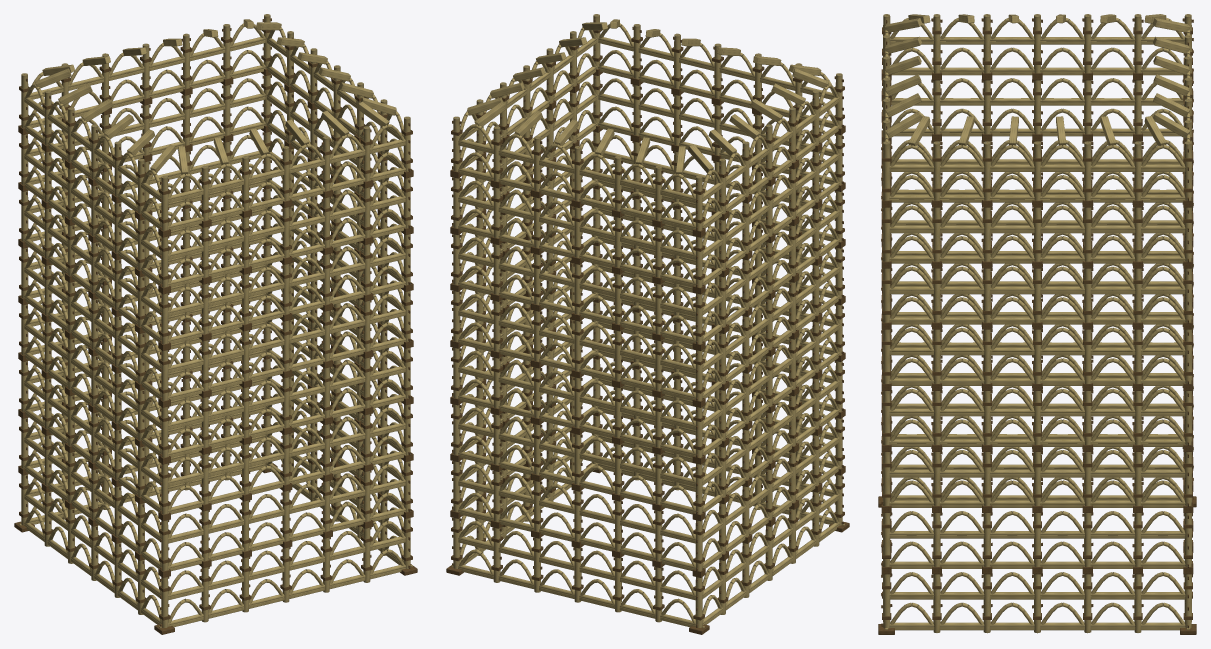
3 views of the same model, side by side, from view 1: azimuth 30°, elevation 25°; view 2: azimuth 150°, elevation 25°; view 3: azimuth 270°, elevation 25° (orthographic). The views are drawn at different scales.
Bounding box in the file's own units: 2.85 × 4.96 × 2.85.
Materials: 2 (2 with a texture image).
